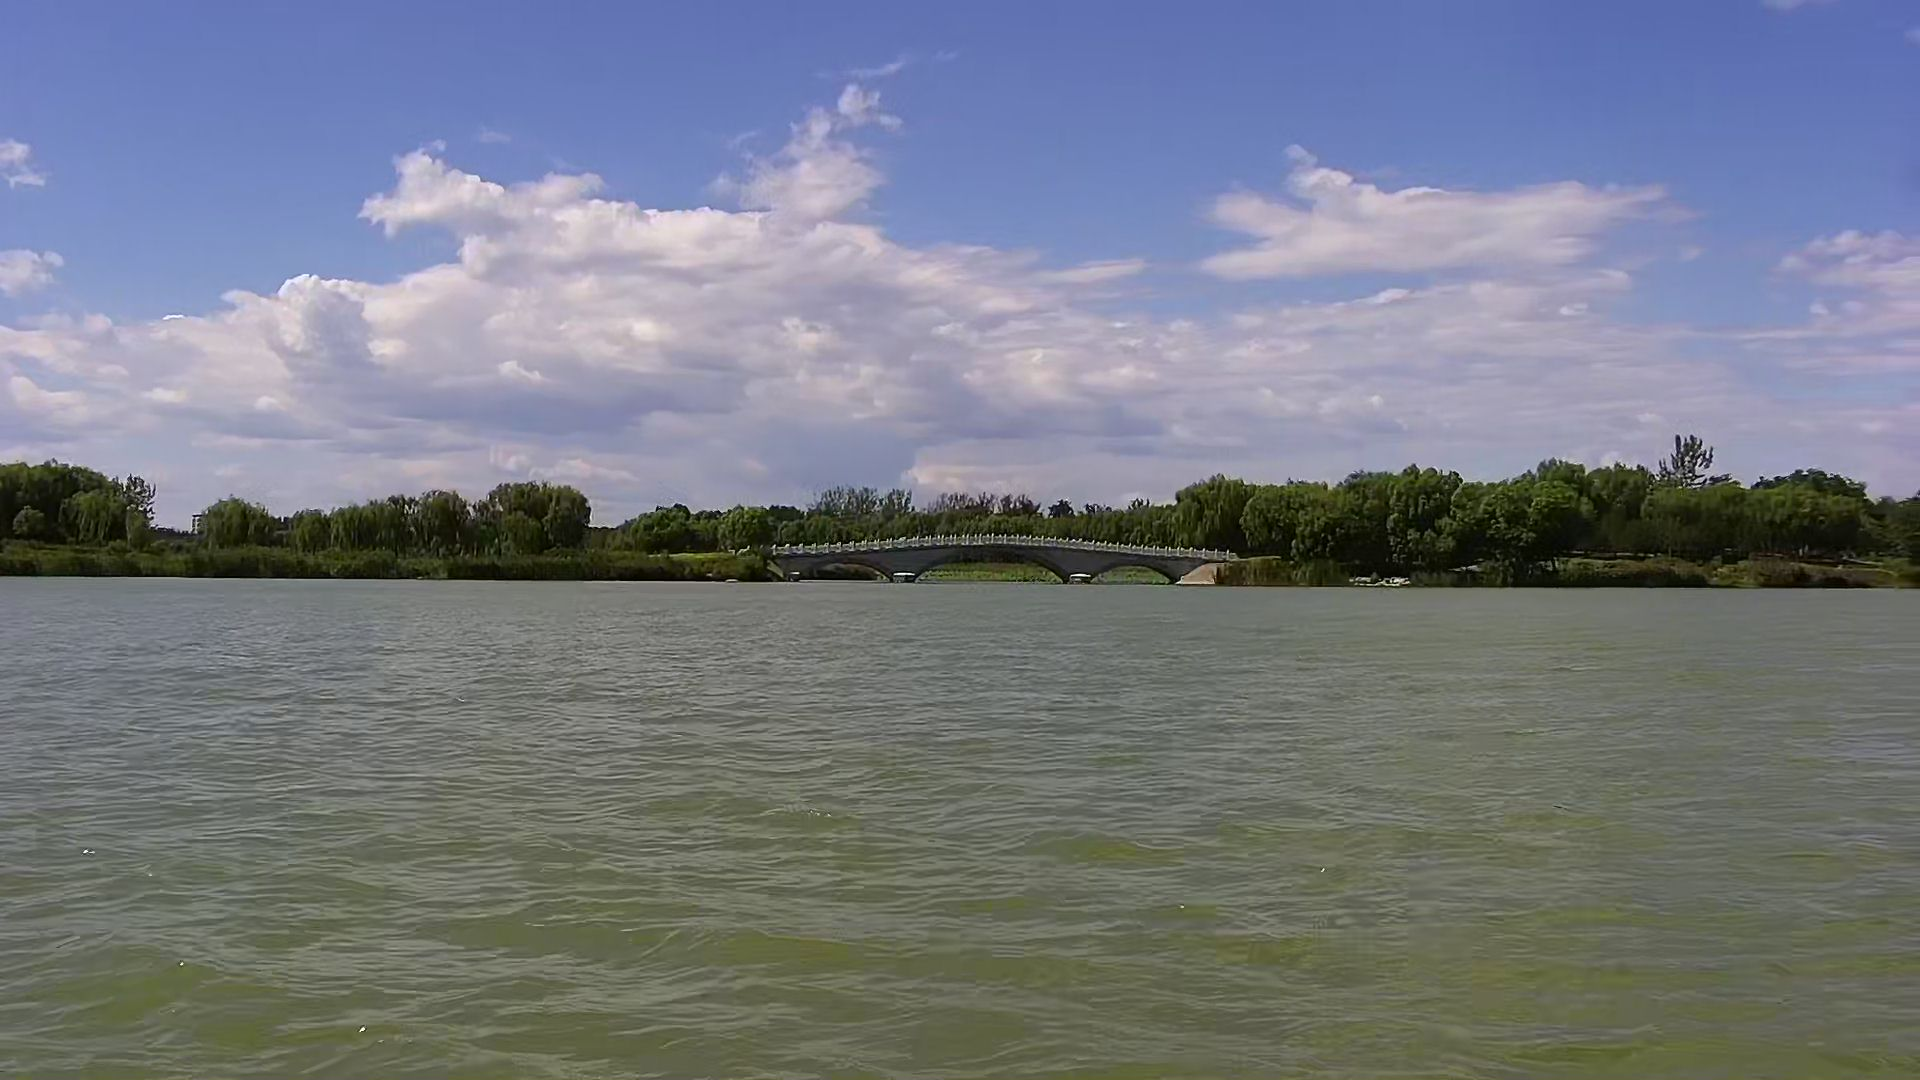bridge: (764, 527, 1242, 587)
